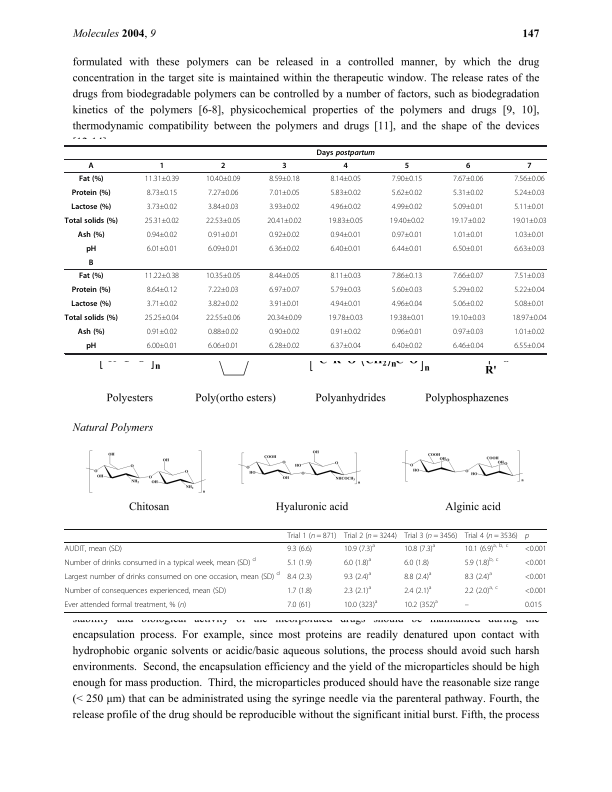borderless: (64, 144, 546, 353), (63, 527, 547, 612)
cell: (64, 570, 281, 582), (64, 556, 257, 568), (64, 586, 227, 596), (64, 600, 187, 610), (64, 544, 123, 554), (64, 216, 119, 226), (64, 313, 119, 323), (464, 542, 509, 554), (316, 148, 376, 157), (343, 531, 398, 540), (403, 531, 458, 540), (464, 531, 519, 540), (286, 531, 337, 540), (403, 598, 439, 610), (464, 556, 499, 568), (464, 584, 499, 596), (343, 598, 378, 610), (70, 202, 112, 212), (70, 299, 112, 309), (71, 188, 111, 198), (71, 285, 111, 295), (343, 542, 376, 554), (403, 542, 436, 554), (343, 556, 372, 568), (343, 570, 372, 582), (403, 570, 432, 582), (464, 570, 493, 582), (343, 584, 372, 596), (403, 584, 432, 596), (77, 230, 105, 240), (77, 327, 105, 337), (286, 544, 313, 554), (286, 558, 313, 568), (403, 558, 430, 568), (286, 572, 313, 582), (286, 586, 313, 596), (78, 174, 104, 184), (78, 271, 104, 281), (144, 175, 180, 182), (205, 175, 241, 182), (144, 217, 180, 224), (205, 217, 241, 224), (266, 217, 302, 224), (328, 217, 364, 224), (389, 217, 425, 224), (450, 217, 486, 224), (511, 217, 547, 224), (144, 272, 180, 279), (205, 272, 241, 279), (144, 314, 180, 321), (205, 314, 241, 321), (266, 314, 302, 321), (328, 314, 364, 321), (389, 314, 425, 321), (450, 314, 486, 321), (511, 314, 547, 321), (286, 600, 311, 610), (268, 175, 301, 182), (329, 175, 362, 182), (513, 175, 546, 182), (268, 189, 301, 196), (329, 189, 362, 196), (513, 189, 546, 196), (268, 203, 301, 210), (329, 203, 362, 210), (513, 203, 546, 210), (268, 231, 301, 238), (329, 231, 362, 238), (513, 231, 546, 238), (268, 245, 301, 252), (329, 245, 362, 252), (513, 245, 546, 252), (268, 272, 301, 279), (329, 272, 362, 279), (513, 272, 546, 279), (268, 286, 301, 293), (329, 286, 362, 293), (513, 286, 546, 293), (268, 300, 301, 307), (329, 300, 362, 307), (513, 300, 546, 307), (268, 328, 301, 335), (329, 328, 362, 335), (513, 328, 546, 335), (268, 342, 301, 349), (329, 342, 362, 349), (513, 342, 546, 349), (524, 544, 547, 554), (524, 558, 547, 568), (524, 572, 547, 582), (524, 586, 547, 596), (391, 175, 423, 182), (452, 175, 484, 182), (146, 189, 178, 196), (207, 189, 239, 196), (391, 189, 423, 196), (452, 189, 484, 196), (146, 203, 178, 210), (207, 203, 239, 210), (391, 203, 423, 210), (452, 203, 484, 210), (146, 231, 178, 238), (207, 231, 239, 238), (391, 231, 423, 238), (452, 231, 484, 238), (146, 245, 178, 252), (207, 245, 239, 252), (391, 245, 423, 252), (452, 245, 484, 252), (391, 272, 423, 279), (452, 272, 484, 279), (146, 286, 178, 293), (207, 286, 239, 293), (391, 286, 423, 293), (452, 286, 484, 293), (146, 300, 178, 307), (207, 300, 239, 307), (391, 300, 423, 307), (452, 300, 484, 307), (146, 328, 178, 335), (207, 328, 239, 335), (391, 328, 423, 335), (452, 328, 484, 335), (146, 342, 178, 349), (207, 342, 239, 349), (391, 342, 423, 349), (452, 342, 484, 349), (524, 600, 543, 610), (85, 244, 97, 254), (85, 341, 97, 351), (88, 161, 95, 171), (342, 161, 349, 171), (159, 161, 165, 171), (220, 161, 226, 171), (281, 161, 287, 171), (404, 161, 410, 171), (465, 161, 471, 171), (526, 161, 532, 171), (88, 258, 94, 268), (524, 533, 530, 540), (464, 604, 470, 608)
